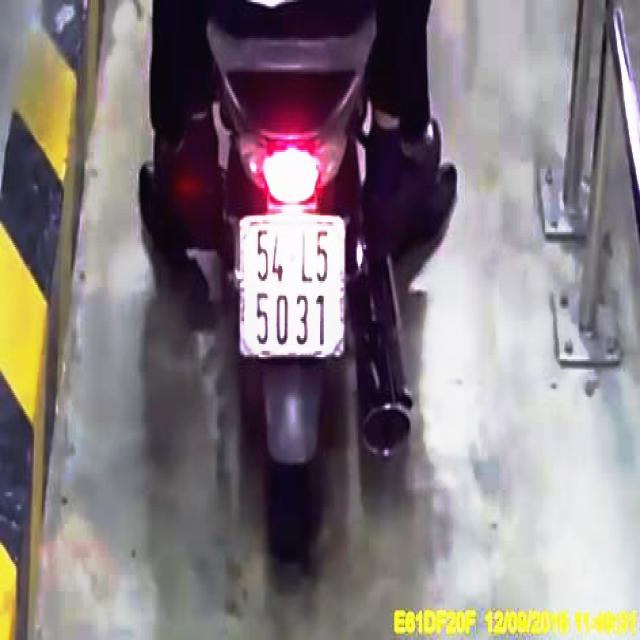license_plate: (240, 215, 346, 357)
